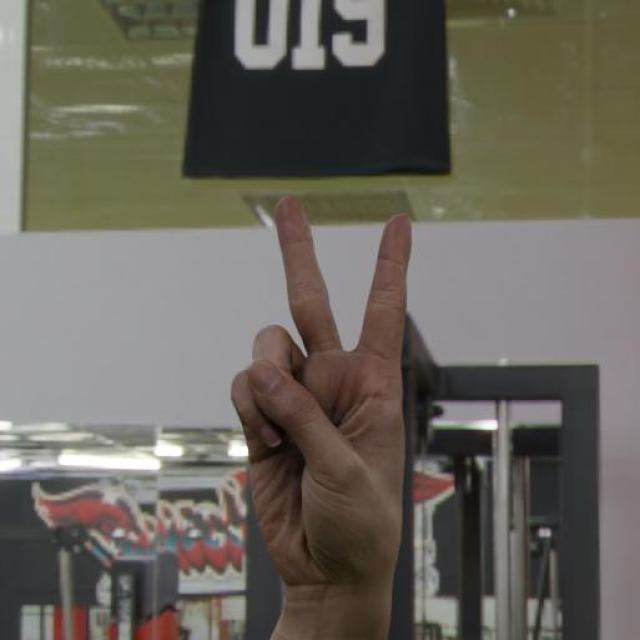V: (218, 187, 417, 592)
